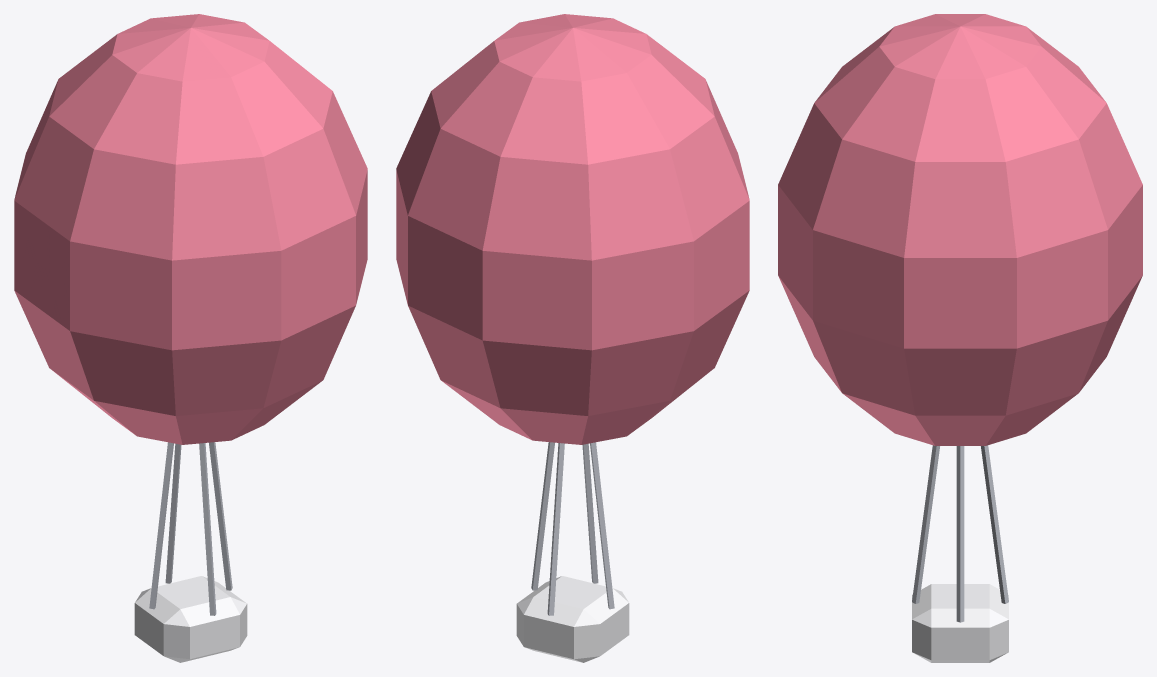
The model's file is CF_Balloon.fbx.
The picture shows the model from 3 angles, left to right: view 1: azimuth 30°, elevation 25°; view 2: azimuth 150°, elevation 25°; view 3: azimuth 270°, elevation 25°; orthographic projection.
Parts seen in each view (by area): view 1: CF_Balloon_Envelope, CF_Balloon_Basket, CF_Balloon_String; view 2: CF_Balloon_Envelope, CF_Balloon_Basket, CF_Balloon_String; view 3: CF_Balloon_Envelope, CF_Balloon_Basket, CF_Balloon_String.
Part boxes in pixels (x1,y1,x2,y2): CF_Balloon_Envelope: (14, 14, 367, 444); CF_Balloon_Basket: (134, 576, 247, 662); CF_Balloon_String: (149, 442, 232, 615); CF_Balloon_Envelope: (396, 14, 749, 444); CF_Balloon_Basket: (516, 576, 629, 662); CF_Balloon_String: (531, 442, 614, 615); CF_Balloon_Envelope: (778, 14, 1142, 445); CF_Balloon_Basket: (912, 584, 1008, 662); CF_Balloon_String: (912, 445, 1008, 622).
Bounding box in the file's own units: 9.27 × 18.4 × 9.75.
